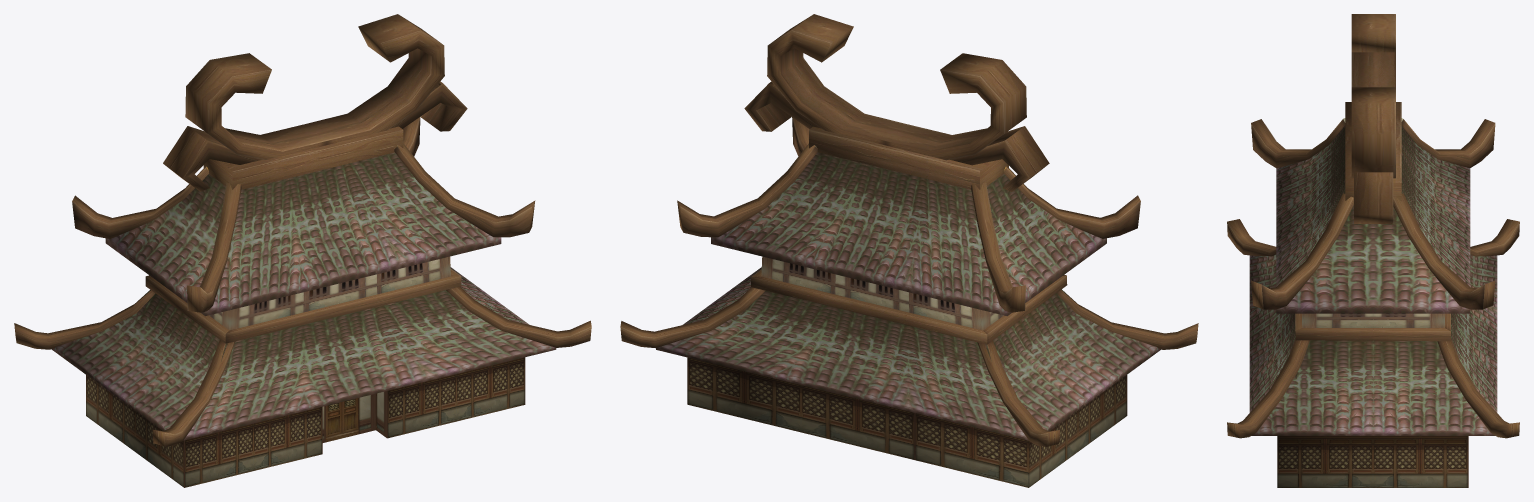
File: chenglou1.FBX
3 views of the same model, side by side, from view 1: azimuth 30°, elevation 25°; view 2: azimuth 150°, elevation 25°; view 3: azimuth 270°, elevation 25° (orthographic). The views are drawn at different scales.
Visible parts, largest first — view 1: Object301; view 2: Object301; view 3: Object301.
Boxes of the visible parts, x1=… form: Object301: x1=14, y1=14, x2=591, y2=487; Object301: x1=620, y1=14, x2=1198, y2=487; Object301: x1=1227, y1=14, x2=1519, y2=487.
Bounding box in the file's own units: 891 × 705 × 530.
